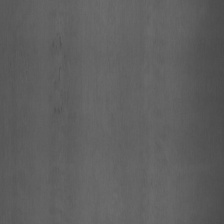silk_spot: (47, 32, 75, 123)
